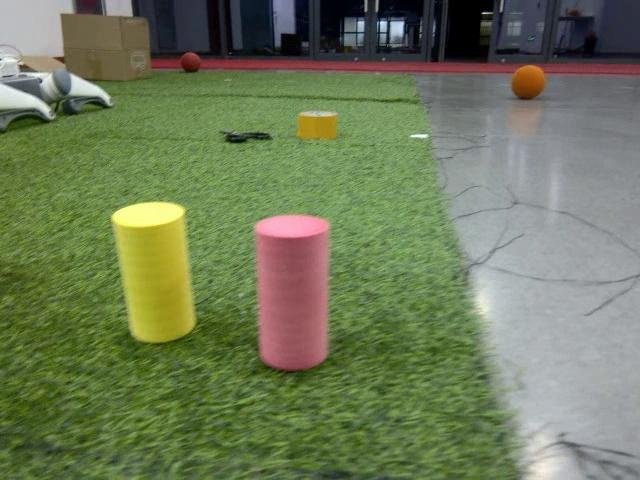orange_ball: (509, 65, 546, 101)
red_cylinder: (252, 215, 332, 369)
yellow_cylinder: (106, 203, 205, 343)
